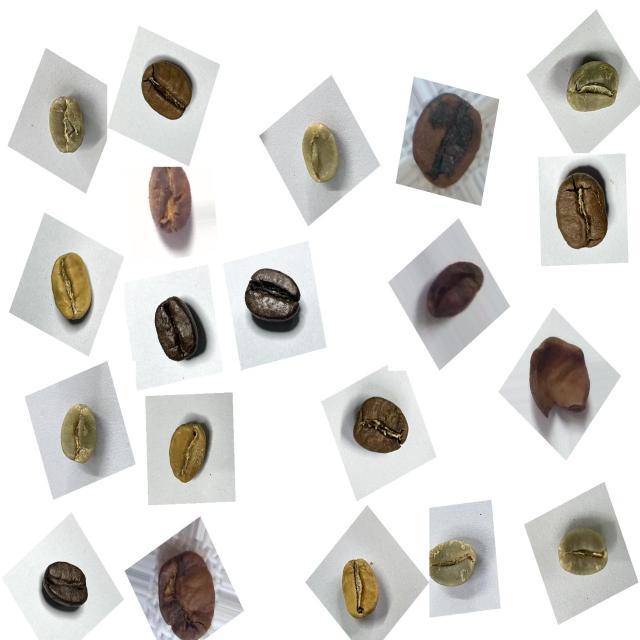bad: (399, 83, 492, 200), (520, 328, 605, 431), (147, 538, 229, 640), (421, 248, 492, 331), (138, 159, 200, 241)
dark: (235, 255, 311, 346), (144, 288, 215, 376), (37, 548, 99, 620)
green: (555, 48, 630, 132), (548, 513, 621, 593), (288, 113, 352, 196), (48, 393, 110, 476), (420, 528, 487, 602), (37, 87, 98, 166)
light: (38, 240, 107, 335), (156, 410, 221, 493), (330, 547, 392, 632)
medium: (541, 162, 625, 267), (343, 386, 419, 468), (132, 51, 204, 137)
